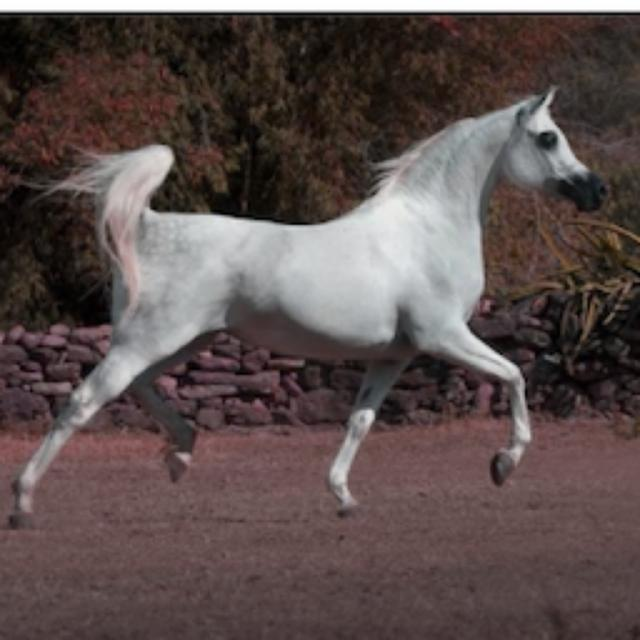Horse: (2, 78, 616, 532)
